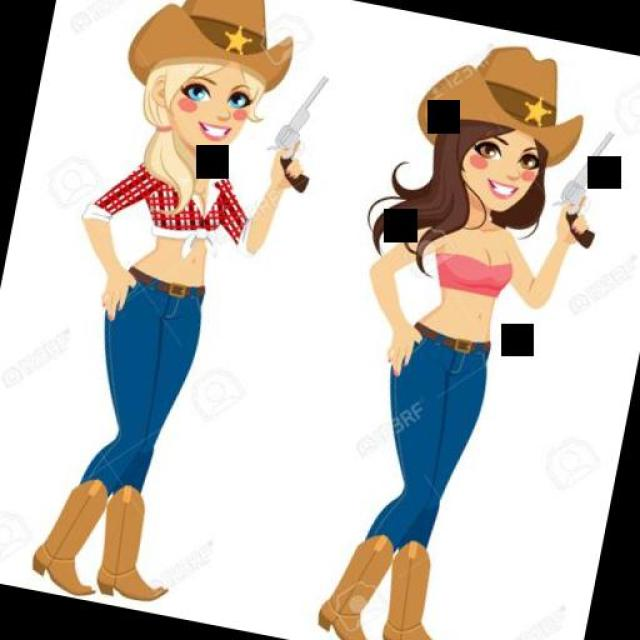gun: (545, 121, 615, 249), (261, 66, 330, 194)
